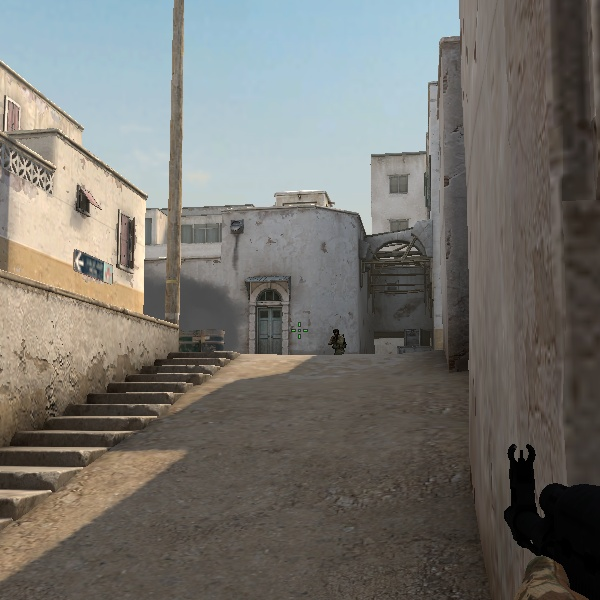ct_body: (322, 325, 349, 355)
